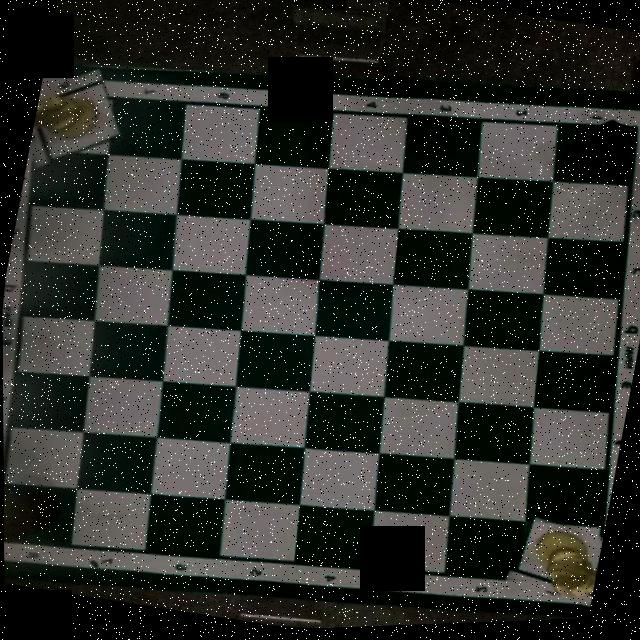chess-table-corners: (576, 554, 600, 617), (34, 88, 58, 120), (618, 118, 640, 152), (3, 520, 22, 556)
